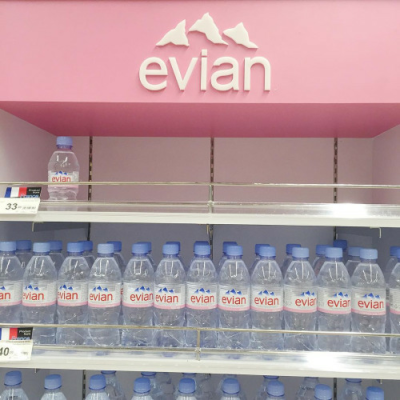evian: (316, 240, 353, 361), (351, 240, 388, 358), (250, 239, 284, 357), (218, 239, 250, 358), (121, 241, 155, 352), (154, 240, 187, 354), (284, 239, 316, 356), (187, 239, 218, 353), (88, 241, 119, 351)
